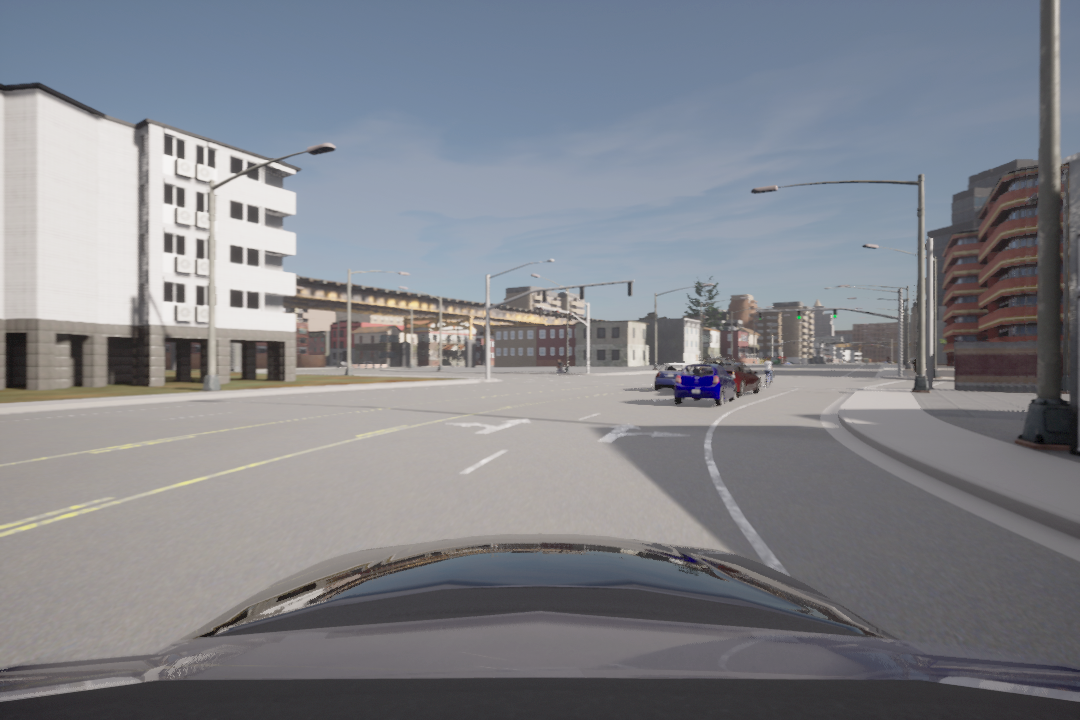RoadSign_forward_left: (447, 413, 536, 442)
RoadSign_forward_right: (587, 418, 692, 447)
